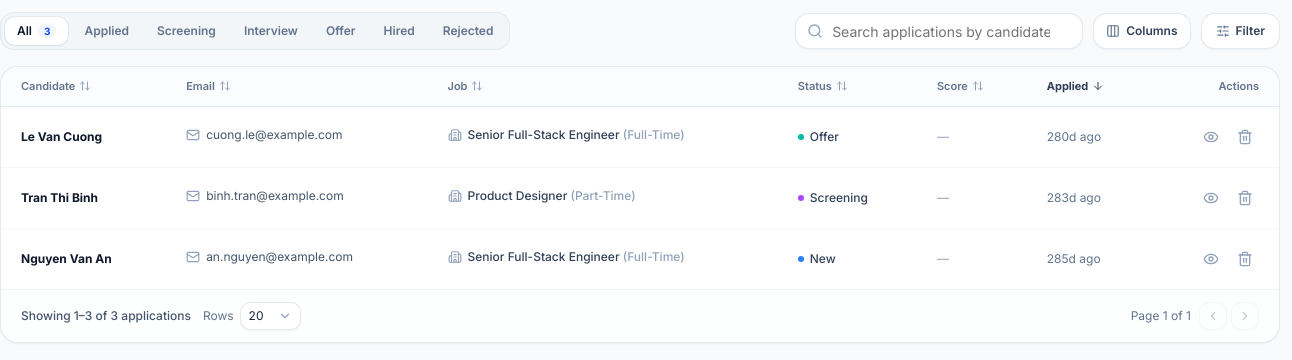
Test case: ApplicationsDataTable Component › 4. Filtering & Search › filters applications by search input text across name and email
Type "cuong" into the field with placeholder "Search applications by candidate name or email..." at {"x": 939, "y": 31}, box [795, 13, 1083, 49]
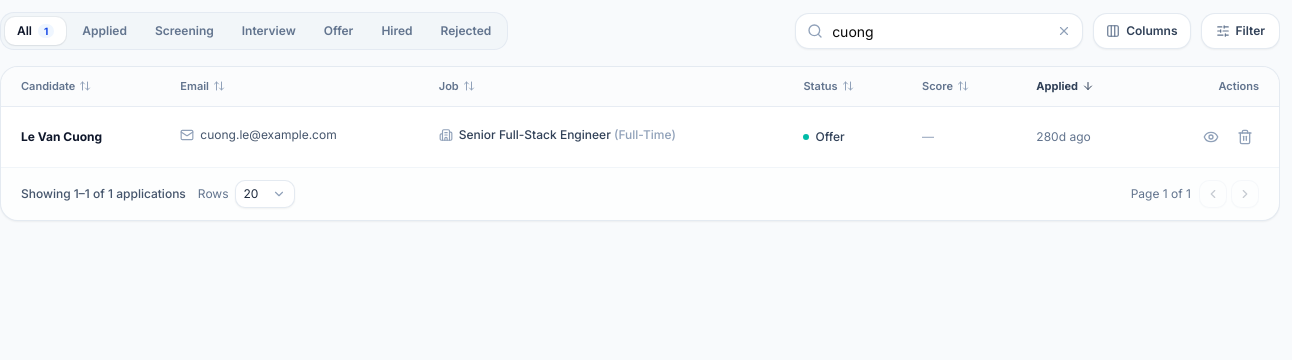
Expected: the button "Le Van Cuong" is shown, [21, 129, 102, 145]
Now the button "Nguyen Van An" is gone
Now the button "Tran Thi Binh" is gone
